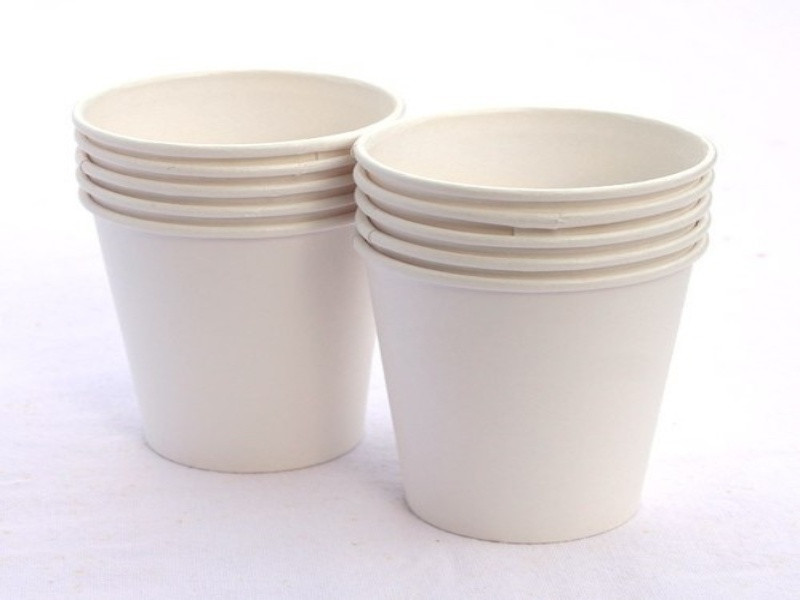Paper_cups_Recyc: (23, 47, 772, 572)
